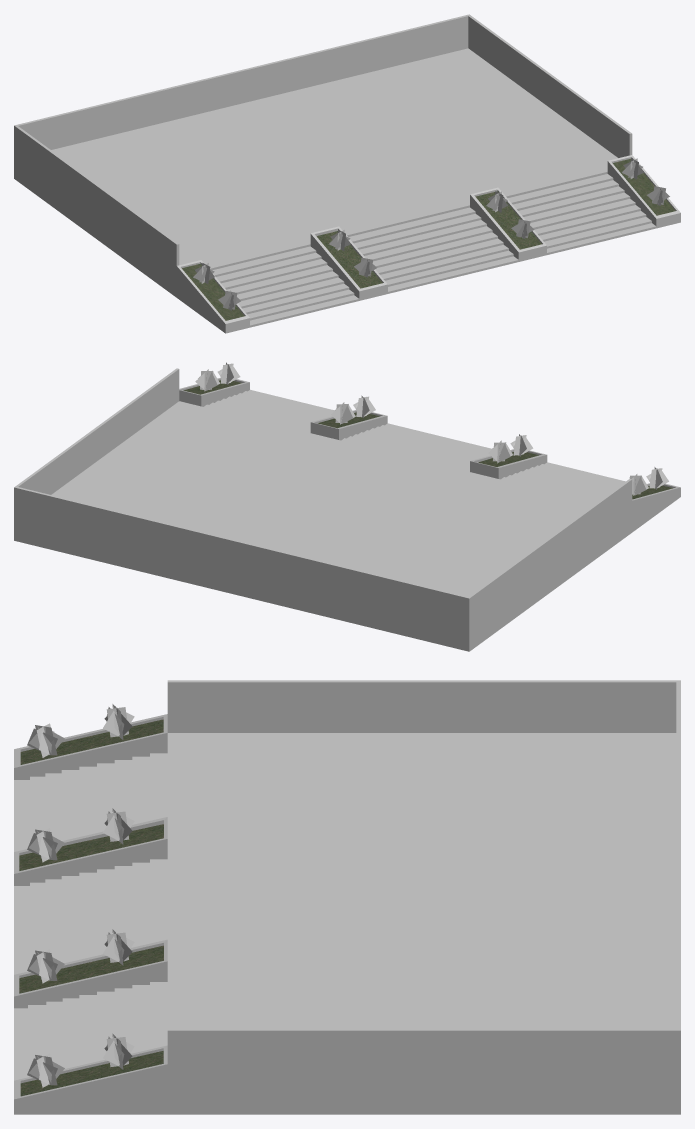
3 views of the same model, one above another, from view 1: azimuth 30°, elevation 25°; view 2: azimuth 150°, elevation 25°; view 3: azimuth 270°, elevation 25° (orthographic). The views are drawn at different scales.
Parts seen in each view (by area): view 1: Base-25, Plant; view 2: Base-25, Plant; view 3: Base-25, Plant.
Part boxes in pixels (x1,y1,x2,y2): Base-25: (14,14,680,333); Plant: (193,158,669,310); Base-25: (14,368,680,651); Plant: (195,362,668,495); Base-25: (14,680,680,1114); Plant: (27,704,134,1087).
Size of what is drawn, in the model's own units: 44.73 by 5 by 36.
